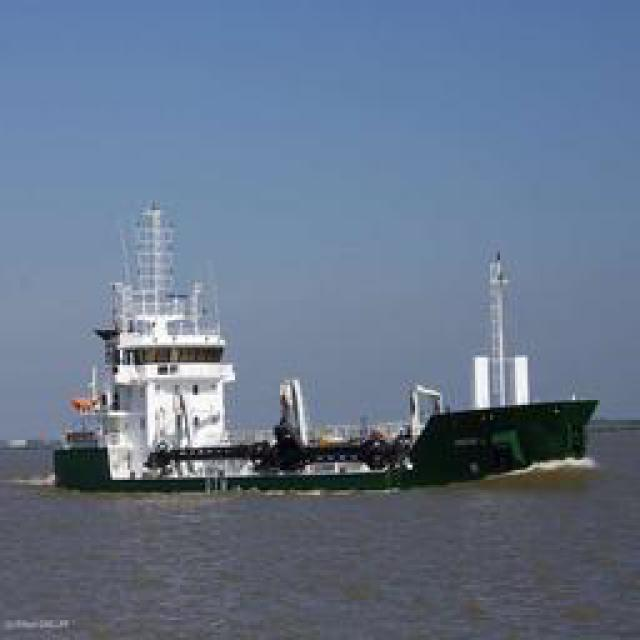Ship: (55, 201, 375, 494)
